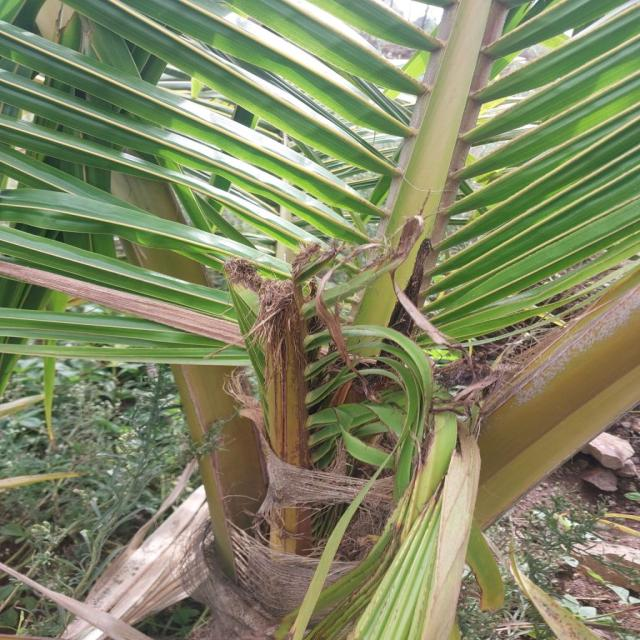bud rot: (222, 223, 424, 550)
